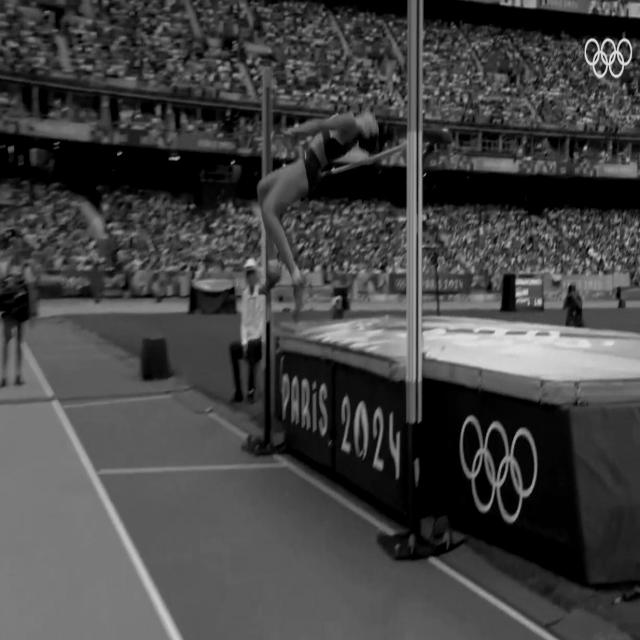jump: (254, 110, 383, 320)
